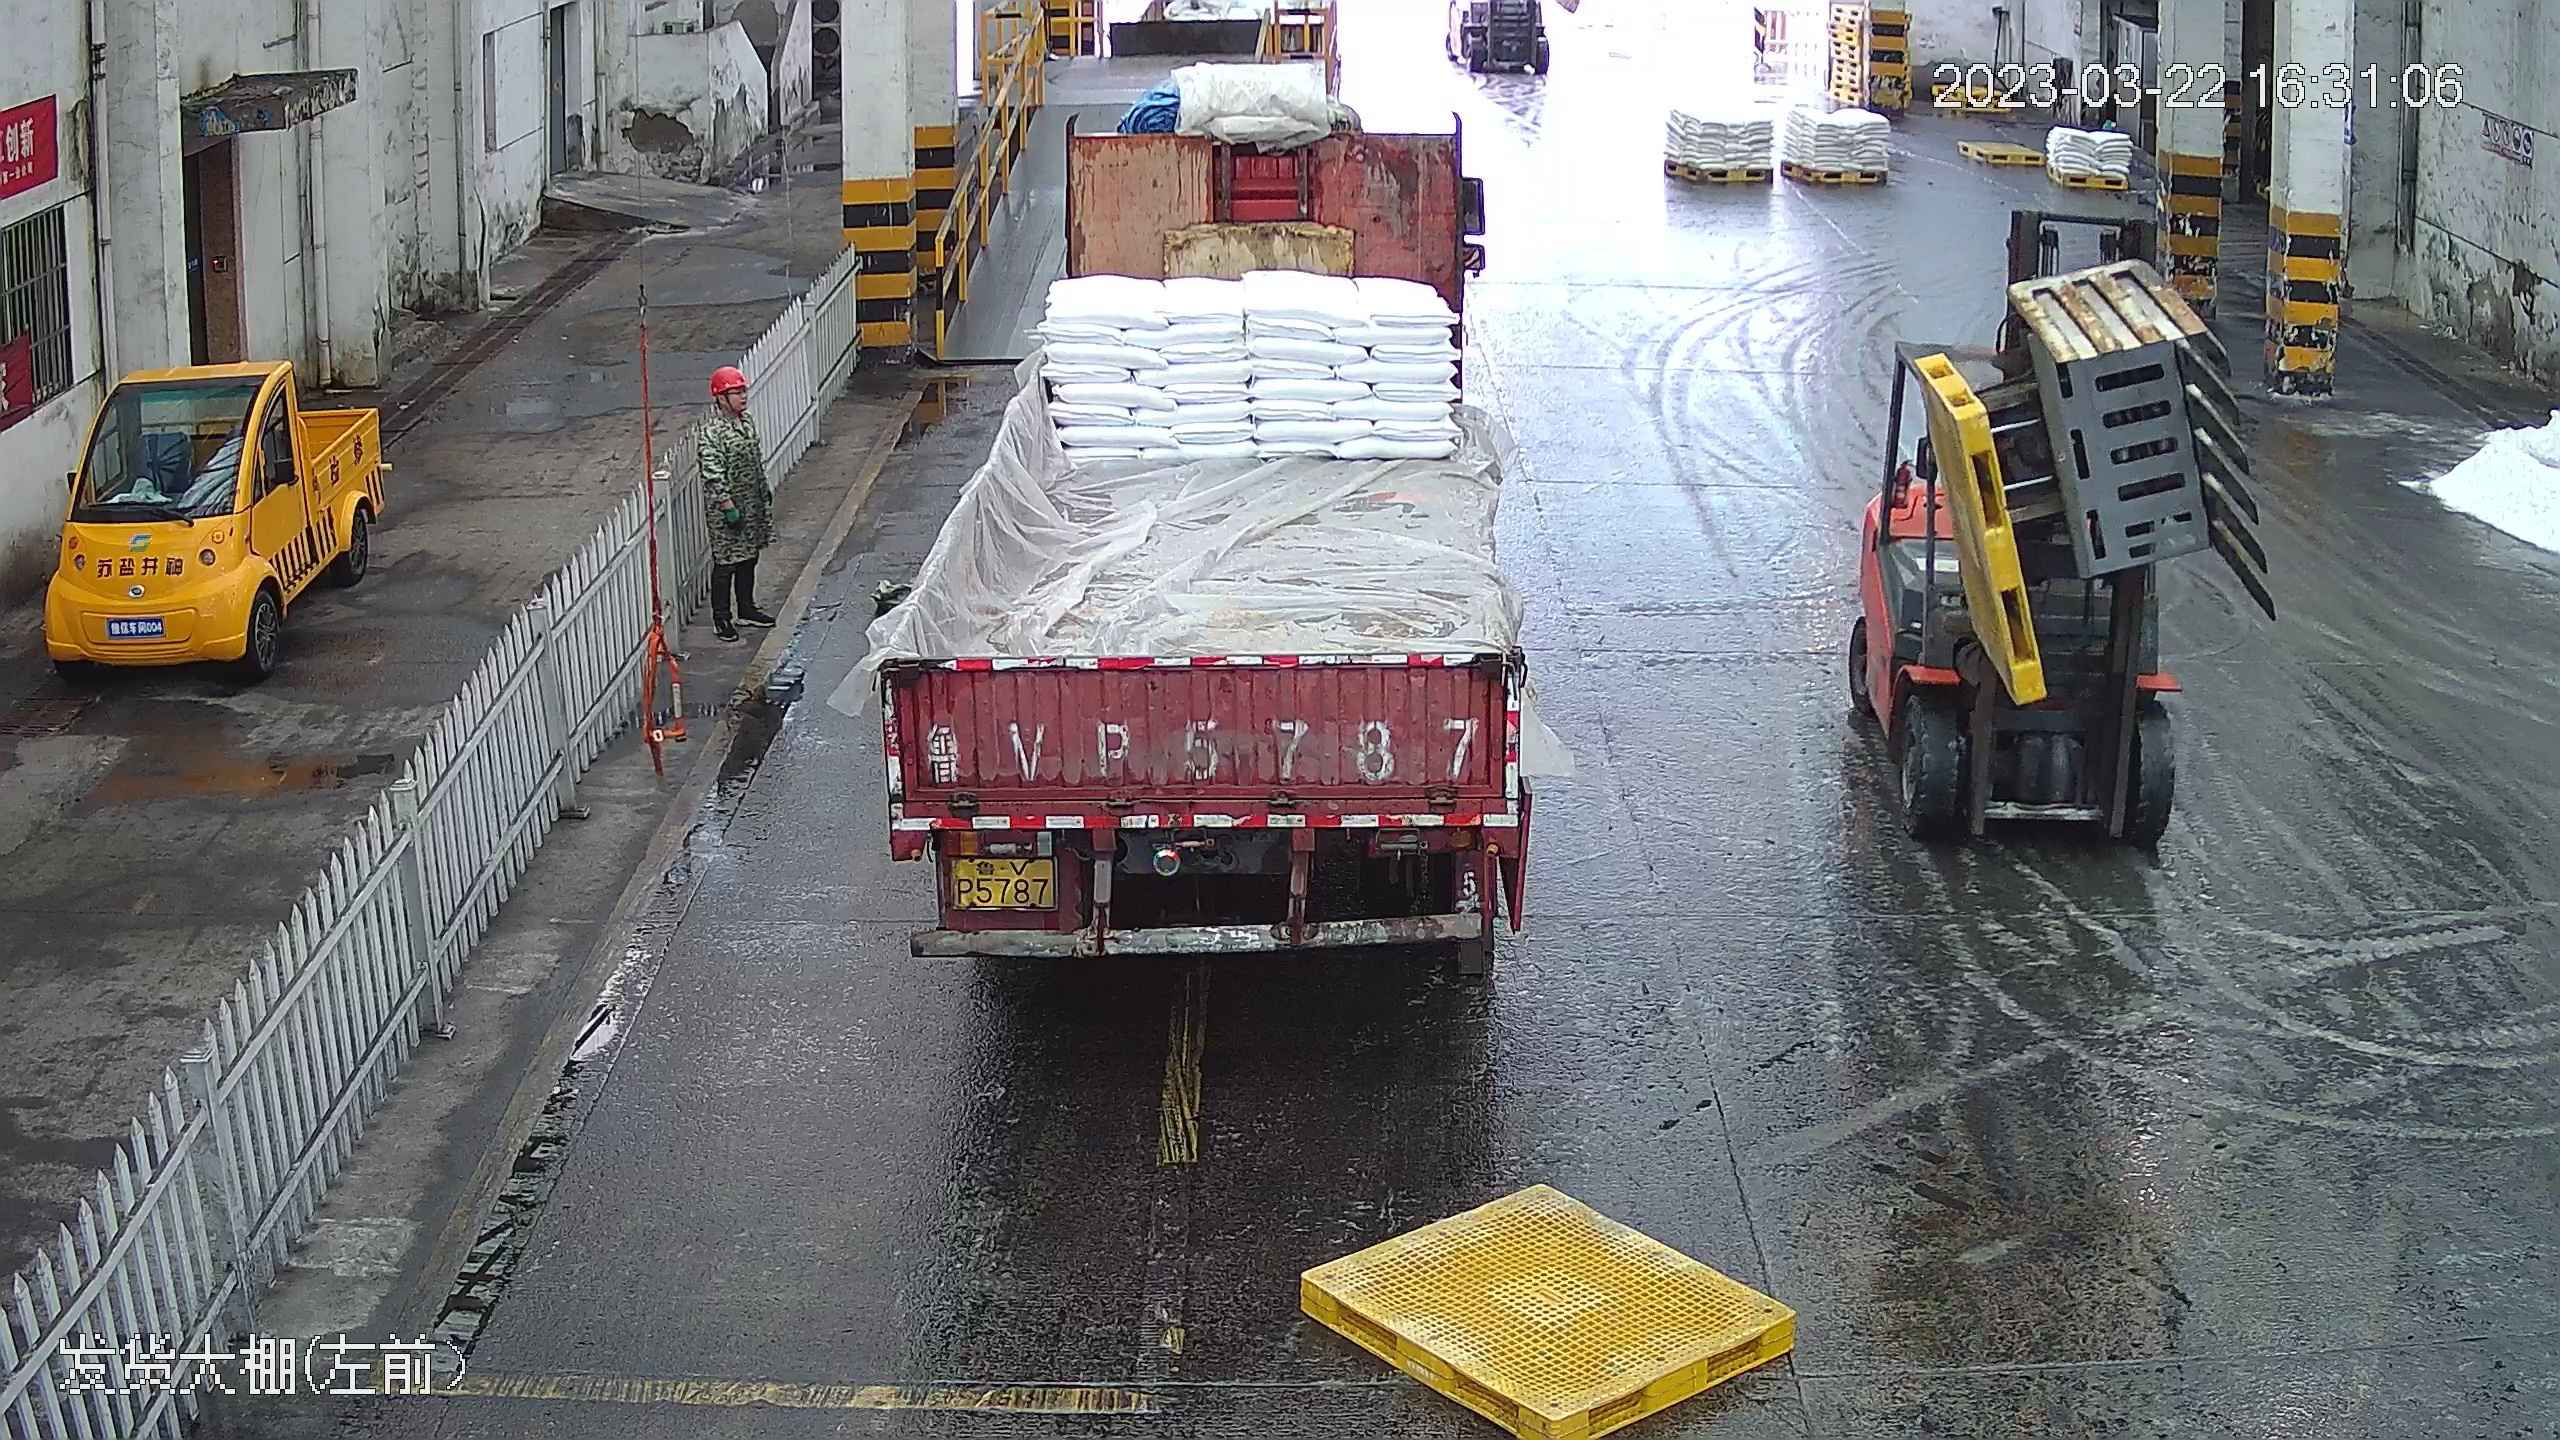head: (691, 362, 770, 455)
helmet: (705, 361, 751, 396)
people: (685, 358, 779, 648)
truck: (863, 19, 1536, 962)
